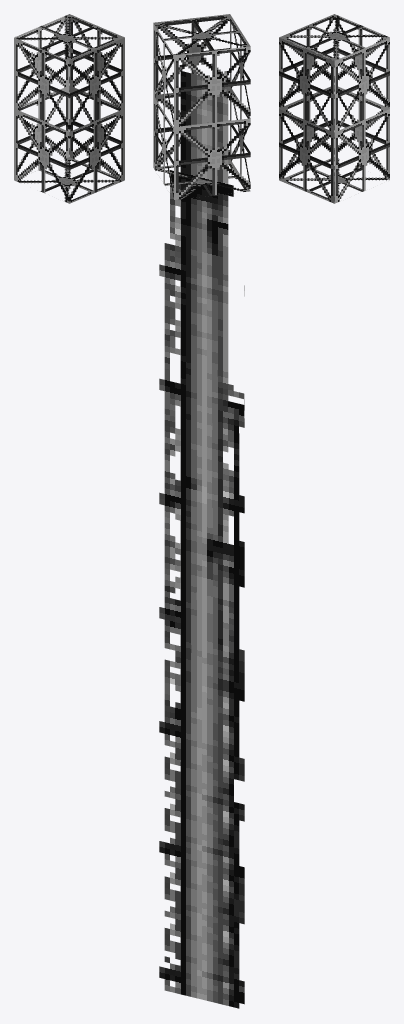
File: uvmd-0194.glb
The picture shows the model from 3 angles, left to right: view 1: azimuth 90°, elevation 25°; view 2: azimuth 150°, elevation 25°; view 3: azimuth 270°, elevation 25°; orthographic projection.
Parts seen in each view (by area): view 1: uvmd-0194; view 2: uvmd-0194; view 3: uvmd-0194.
Part boxes in pixels (left/top/right/bottom): uvmd-0194: left=14, top=14, right=124, bottom=203; uvmd-0194: left=153, top=14, right=250, bottom=1008; uvmd-0194: left=279, top=14, right=389, bottom=203.
Size of the model in its own units: 64 by 606 by 64.
Materials: 2 (2 with a texture image).
